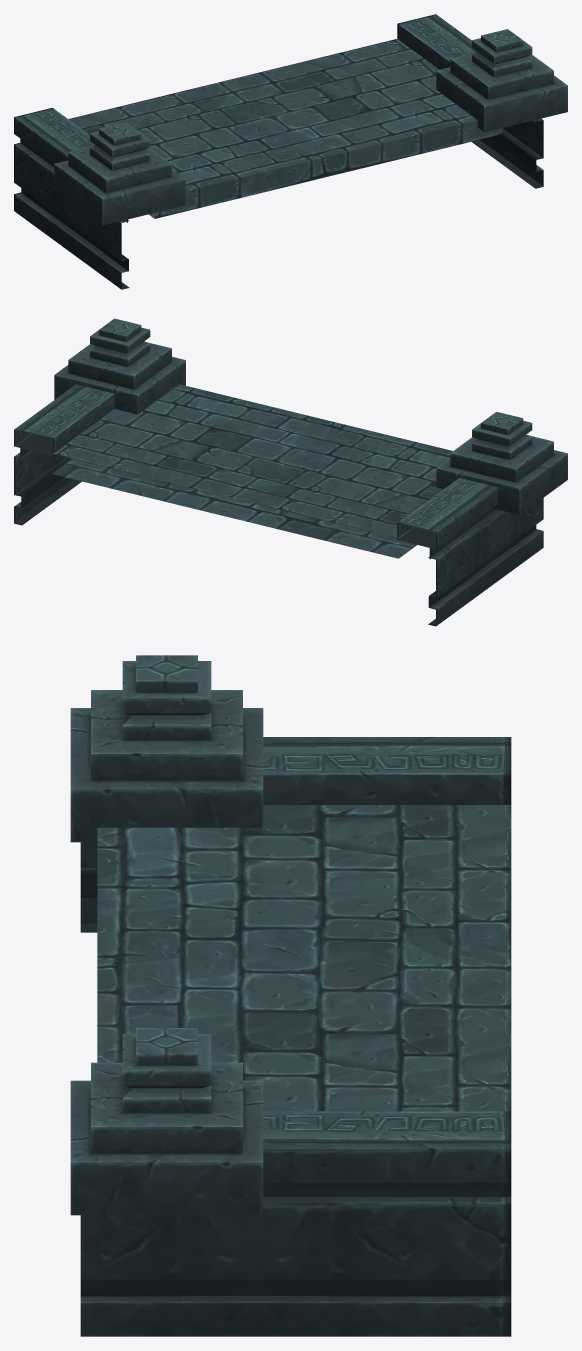
Rendered from Stage_DiXiaCheng_Qiao01.FBX.
3 views of the same model, one above another, from view 1: azimuth 30°, elevation 25°; view 2: azimuth 150°, elevation 25°; view 3: azimuth 270°, elevation 25° (orthographic). The views are drawn at different scales.
Parts seen in each view (by area): view 1: Stage_DiXiaCheng_Qiao01; view 2: Stage_DiXiaCheng_Qiao01; view 3: Stage_DiXiaCheng_Qiao01.
Part boxes in pixels (x1,y1,x2,y2): Stage_DiXiaCheng_Qiao01: (14,14,567,289); Stage_DiXiaCheng_Qiao01: (14,318,567,626); Stage_DiXiaCheng_Qiao01: (70,655,511,1336).
Bounding box in the file's own units: 1247 × 353 × 511.
